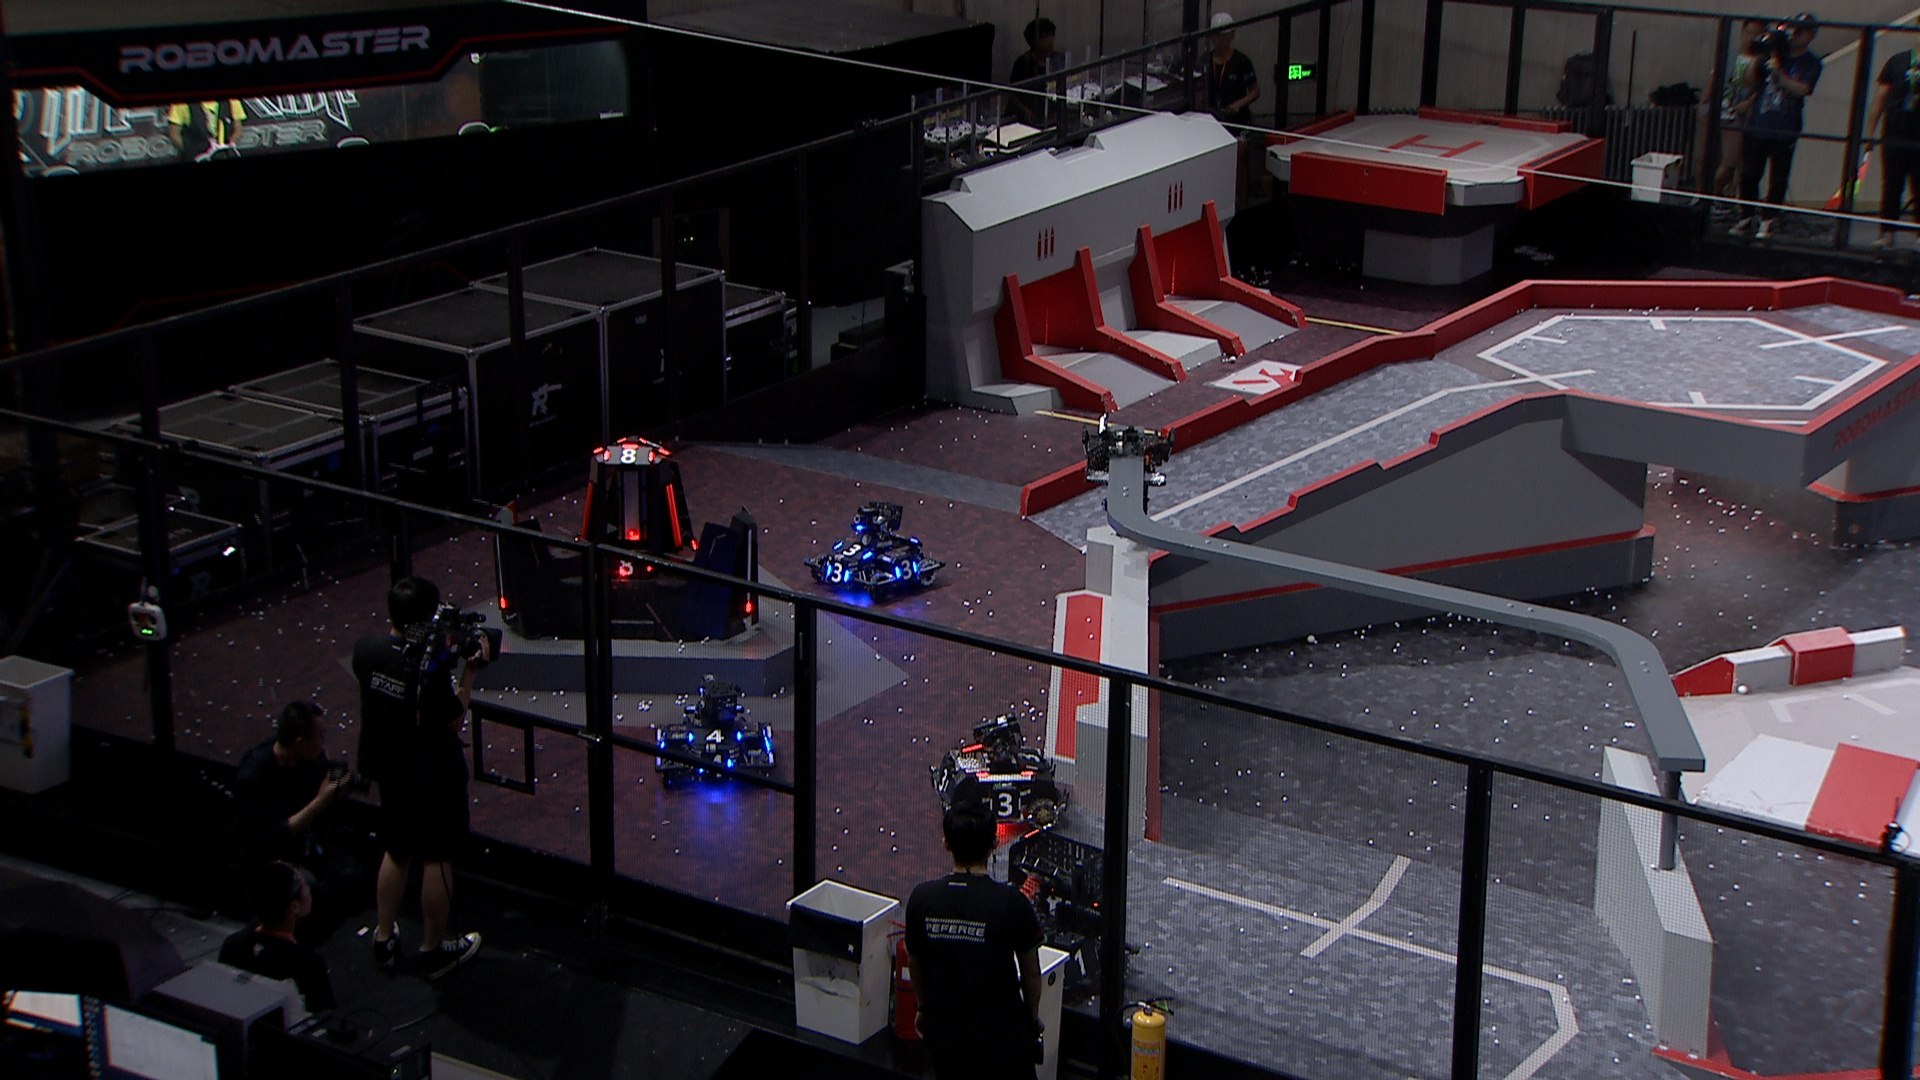armor: (1058, 945, 1102, 978), (665, 483, 684, 551), (686, 727, 741, 744), (699, 752, 732, 779), (579, 480, 593, 542), (604, 444, 654, 462), (609, 556, 647, 578), (992, 794, 1025, 815), (835, 542, 869, 560), (825, 562, 851, 584), (893, 560, 920, 580), (1017, 745, 1040, 765), (935, 766, 951, 790), (622, 527, 638, 542), (496, 595, 508, 611), (745, 597, 752, 616)
base: (489, 433, 760, 644)
car: (986, 831, 1139, 1006), (924, 709, 1073, 839), (650, 673, 783, 789), (802, 502, 945, 604)
watcher: (1076, 411, 1178, 531)
